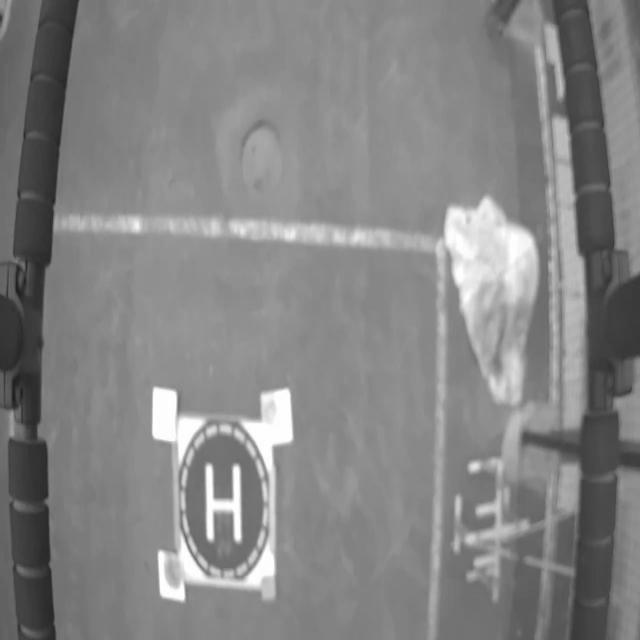Helipad: (205, 463, 242, 543)
